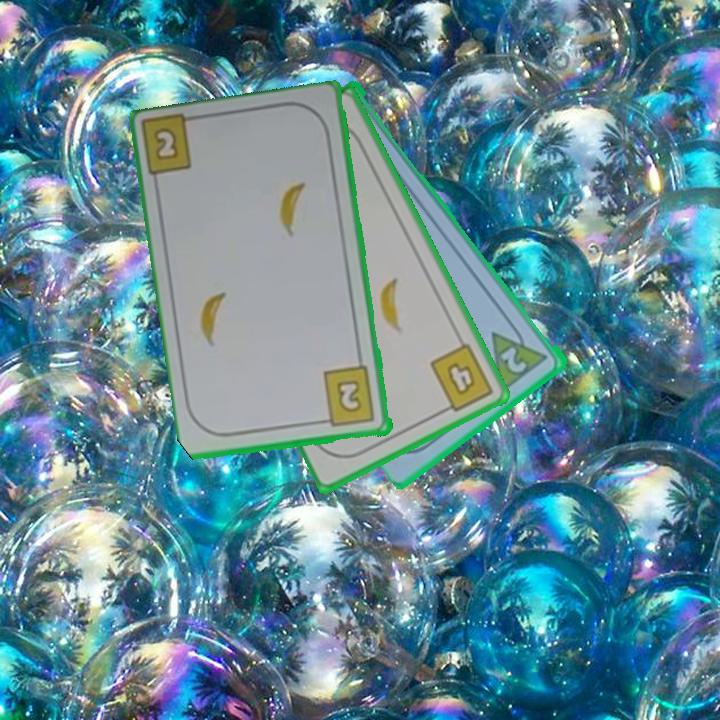2b: (317, 363, 378, 430), (154, 128, 179, 160)
2p: (497, 343, 530, 377)
4b: (426, 340, 497, 417)
